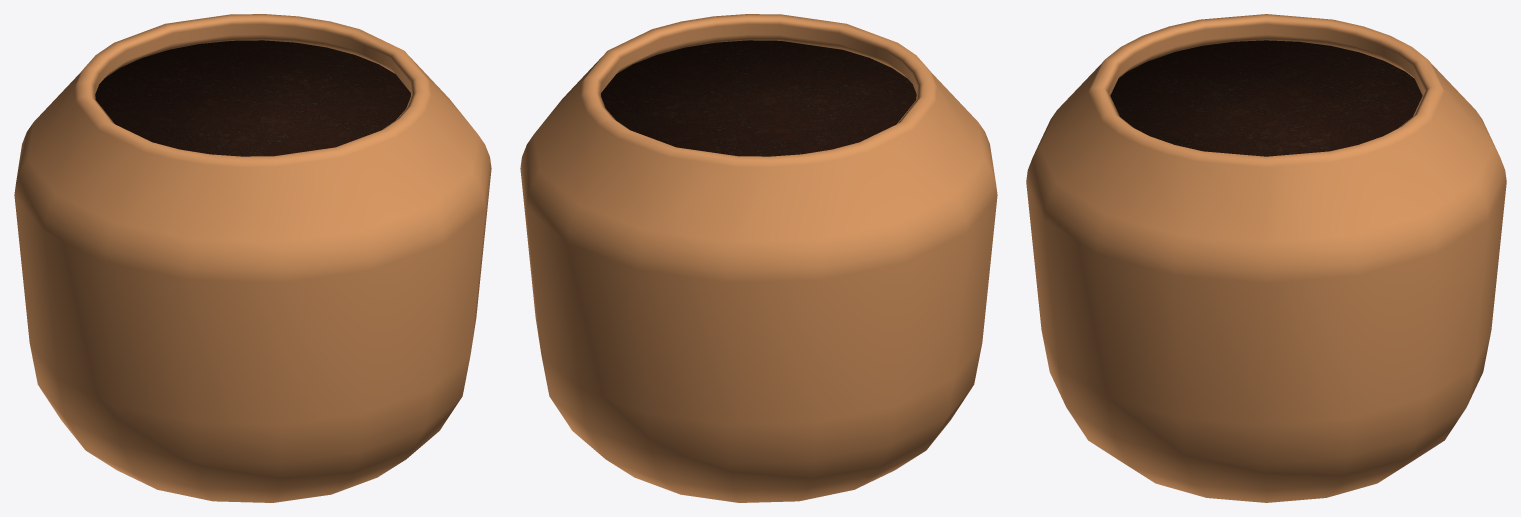
The model's file is SM_FlowerPot5.fbx.
3 renders of one model, left to right at view 1: azimuth 30°, elevation 25°; view 2: azimuth 150°, elevation 25°; view 3: azimuth 270°, elevation 25°, orthographic.
Parts seen in each view (by area): view 1: SM_SM_FlowerPot5_LOD0; view 2: SM_SM_FlowerPot5_LOD0; view 3: SM_SM_FlowerPot5_LOD0.
Boxes of the visible parts, box(x1,y1,x2,y2) form: SM_SM_FlowerPot5_LOD0: box(14, 14, 491, 502); SM_SM_FlowerPot5_LOD0: box(520, 14, 997, 502); SM_SM_FlowerPot5_LOD0: box(1026, 14, 1506, 502).
Bounding box in the file's own units: 53.12 × 53.12 × 44.67.
Materials: 1 (1 with a texture image).
